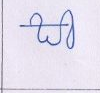i_matra: (63, 9, 76, 50)
